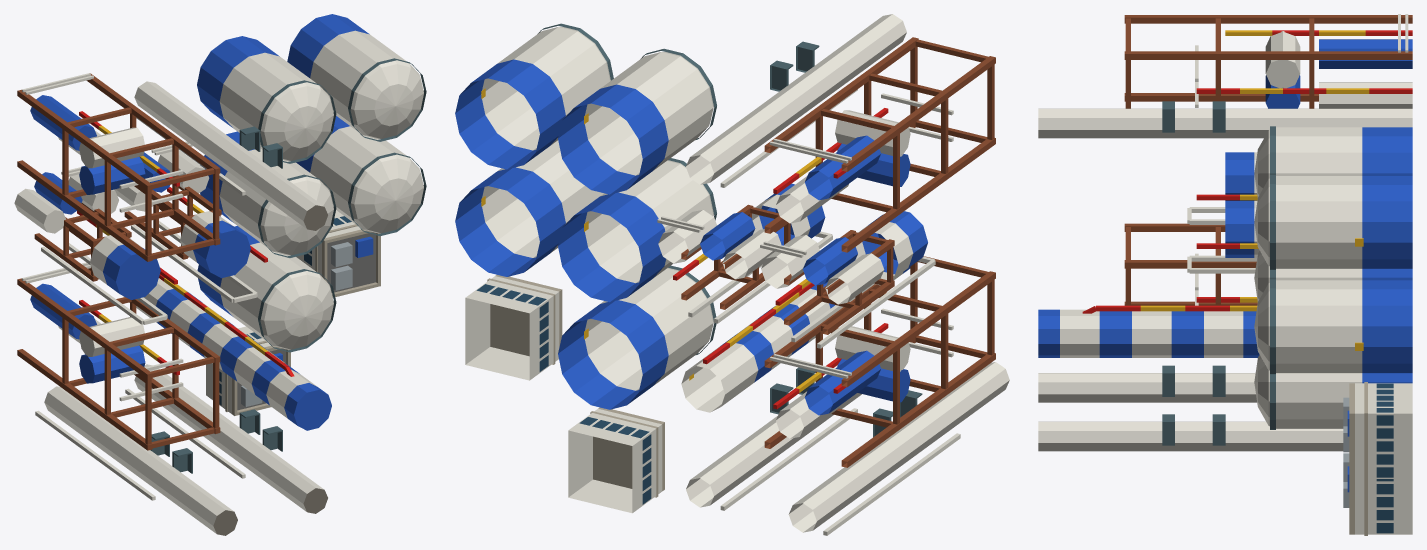
The model's file is construction_2.glb.
3 views of the same model, side by side, from view 1: azimuth 30°, elevation 25°; view 2: azimuth 150°, elevation 25°; view 3: azimuth 270°, elevation 25° (orthographic). The views are drawn at different scales.
Visible parts, largest first — view 1: t03_g21.002, t01_g21.002, t23_g18.002, t33_g18.002, t02_g22.002, t32_g18.002, t21_g18.002, t11_g19.002, t00_g20.002, t13_g20.002, t12_g22.002, t10_g20.002 (+3 smaller); view 2: t03_g21.002, t01_g21.002, t23_g18.002, t33_g18.002, t21_g18.002, t22_g18.002, t02_g22.002, t32_g18.002, t13_g20.002, t00_g20.002, t12_g22.002, t31_g23.002 (+3 smaller); view 3: t03_g21.002, t32_g18.002, t33_g18.002, t11_g19.002, t13_g20.002, t10_g20.002, t23_g18.002, t00_g20.002, t31_g23.002, t21_g18.002, t20_g23.002, t01_g21.002 (+3 smaller).
Boxes of the visible parts, box(x1,y1,x2,y2) form: t03_g21.002: box(17, 73, 220, 261); t01_g21.002: box(17, 262, 220, 450); t23_g18.002: box(197, 36, 336, 163); t33_g18.002: box(287, 14, 426, 141); t02_g22.002: box(14, 167, 177, 324); t32_g18.002: box(296, 116, 426, 236); t21_g18.002: box(197, 226, 336, 352); t11_g19.002: box(129, 274, 331, 430); t00_g20.002: box(35, 386, 237, 535); t13_g20.002: box(134, 81, 327, 230); t12_g22.002: box(114, 141, 267, 302); t10_g20.002: box(125, 364, 327, 513); t03_g21.002: box(764, 37, 995, 252); t01_g21.002: box(764, 256, 995, 467); t23_g18.002: box(558, 48, 716, 194); t33_g18.002: box(455, 23, 613, 169); t21_g18.002: box(558, 265, 716, 409); t22_g18.002: box(558, 158, 716, 302); t02_g22.002: box(760, 211, 935, 348); t32_g18.002: box(455, 140, 603, 276); t13_g20.002: box(686, 14, 906, 187); t00_g20.002: box(788, 362, 1009, 535); t12_g22.002: box(657, 183, 832, 323); t31_g23.002: box(465, 275, 562, 380); t03_g21.002: box(1124, 14, 1412, 108); t32_g18.002: box(1254, 279, 1412, 374); t33_g18.002: box(1254, 175, 1412, 269); t11_g19.002: box(1038, 305, 1259, 357); t13_g20.002: box(1038, 101, 1412, 138); t10_g20.002: box(1038, 414, 1343, 451); t23_g18.002: box(1254, 126, 1412, 197); t00_g20.002: box(1038, 365, 1256, 402); t31_g23.002: box(1343, 382, 1412, 480); t21_g18.002: box(1254, 355, 1412, 429); t20_g23.002: box(1343, 453, 1412, 535); t01_g21.002: box(1124, 223, 1257, 305).
Size of the model in its own units: 61.75 by 59.95 by 52.
